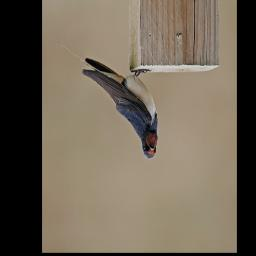Swallow: (58, 42, 159, 162)
